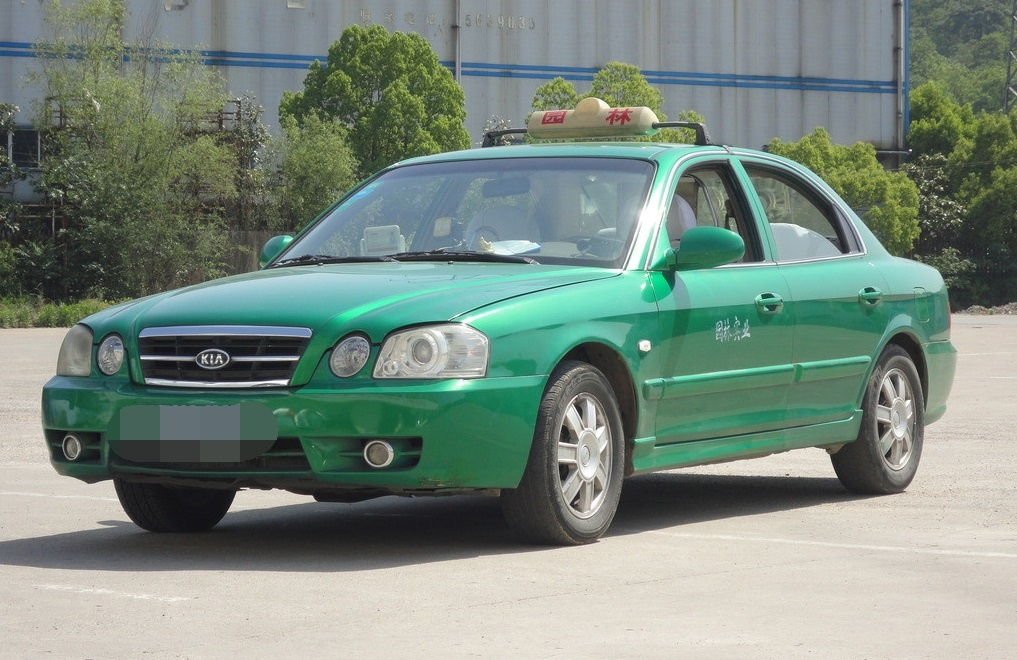taxi: (63, 105, 954, 554)
